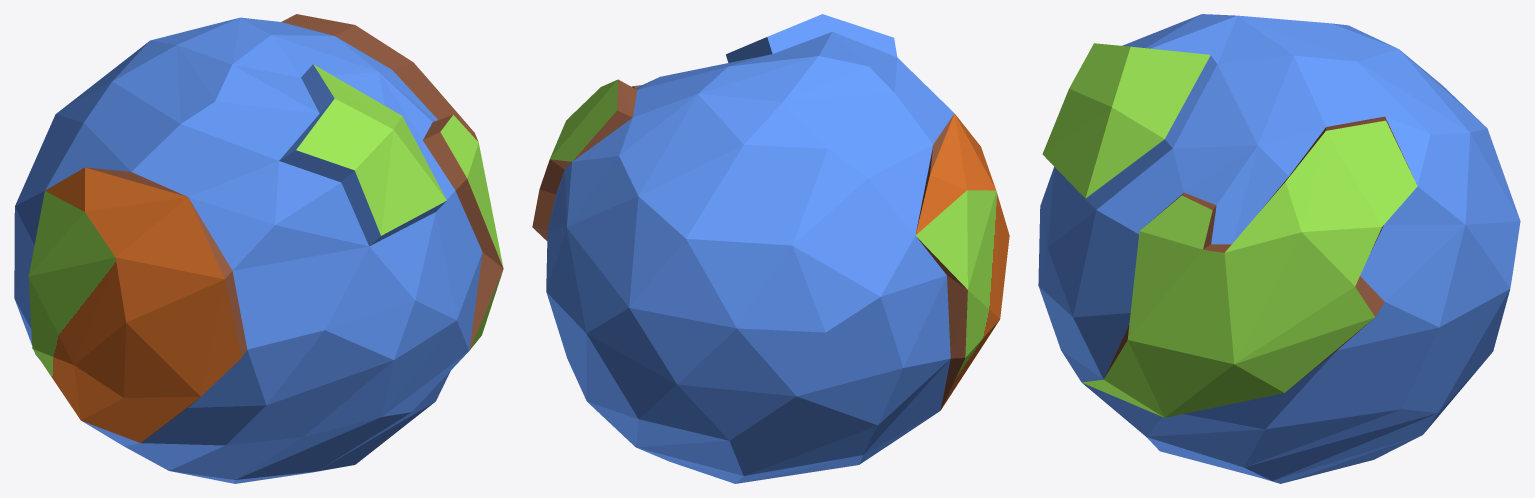
Rendered from Planet1.glb.
The picture shows the model from 3 angles, left to right: view 1: azimuth 30°, elevation 25°; view 2: azimuth 150°, elevation 25°; view 3: azimuth 270°, elevation 25°; orthographic projection. The views are drawn at different scales.
Parts seen in each view (by area): view 1: Planet1; view 2: Planet1; view 3: Planet1.
Boxes of the visible parts, x1,y1,x2,y2 form: Planet1: (14, 14, 503, 483); Planet1: (532, 14, 1009, 483); Planet1: (1038, 14, 1520, 483).
Size of the model in its own units: 20.91 by 19.37 by 19.98.
1 material, 1 textured.
